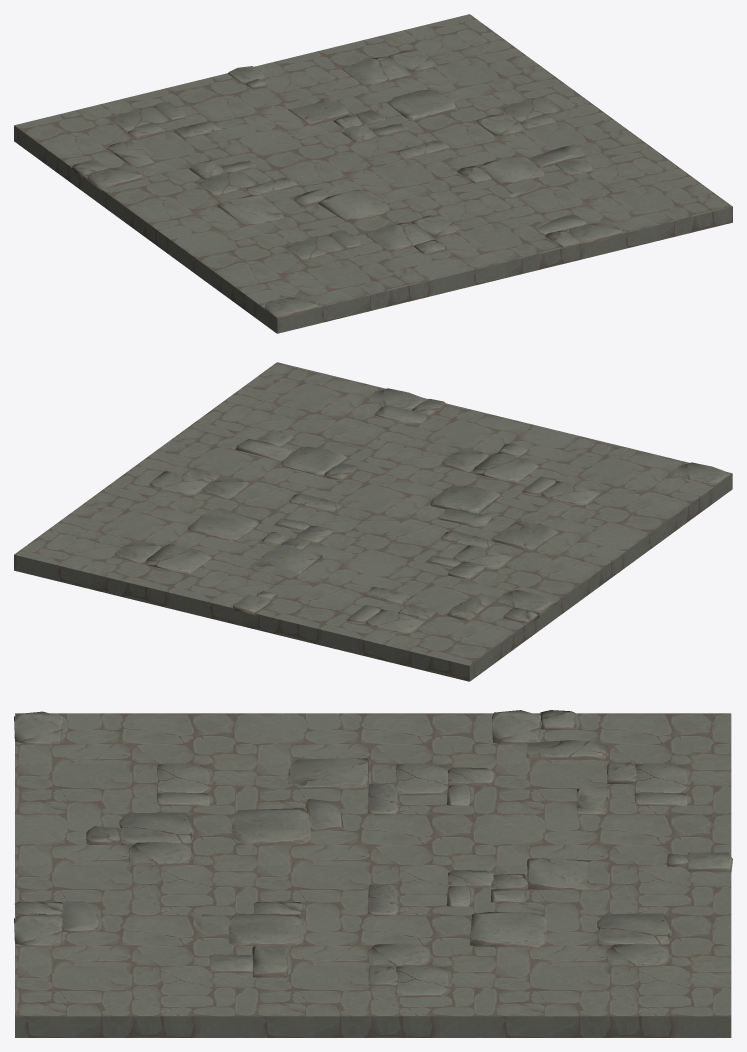
File: SM_FW01_Ruins_Int_Floor_6x6_01.fbx
The picture shows the model from 3 angles, top to bottom: view 1: azimuth 30°, elevation 25°; view 2: azimuth 150°, elevation 25°; view 3: azimuth 270°, elevation 25°; orthographic projection. The views are drawn at different scales.
Visible parts, largest first — view 1: SM_FW01_Ruins_Int_Floor_6x6_01, SM_FW01_Ruins_Int_Floor_6x6_01_LOD0; view 2: SM_FW01_Ruins_Int_Floor_6x6_01, SM_FW01_Ruins_Int_Floor_6x6_01_LOD0; view 3: SM_FW01_Ruins_Int_Floor_6x6_01, SM_FW01_Ruins_Int_Floor_6x6_01_LOD0.
Part boxes in pixels (bbox=[...]): SM_FW01_Ruins_Int_Floor_6x6_01: bbox=[14, 14, 732, 333]; SM_FW01_Ruins_Int_Floor_6x6_01_LOD0: bbox=[71, 50, 623, 320]; SM_FW01_Ruins_Int_Floor_6x6_01: bbox=[14, 362, 732, 681]; SM_FW01_Ruins_Int_Floor_6x6_01_LOD0: bbox=[115, 388, 730, 633]; SM_FW01_Ruins_Int_Floor_6x6_01: bbox=[15, 713, 731, 1037]; SM_FW01_Ruins_Int_Floor_6x6_01_LOD0: bbox=[14, 710, 732, 997].
Size of what is drawn, in the model's own units: 6.01 by 0.2507 by 6.02.
